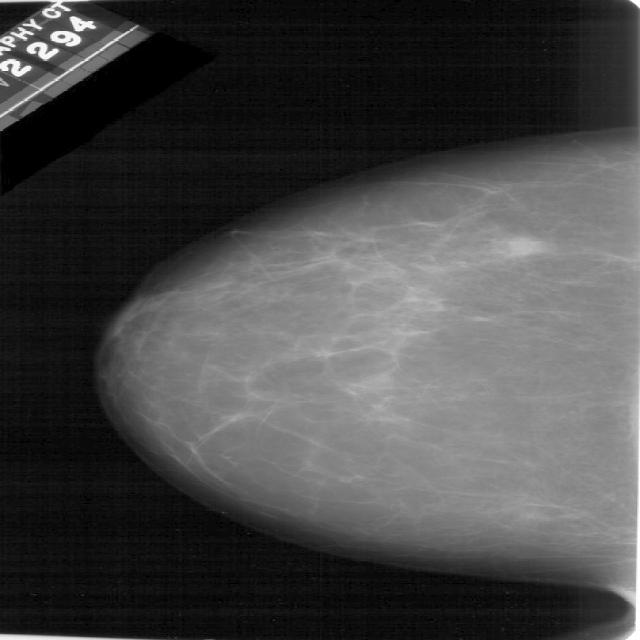tumour: (504, 235, 541, 257)
